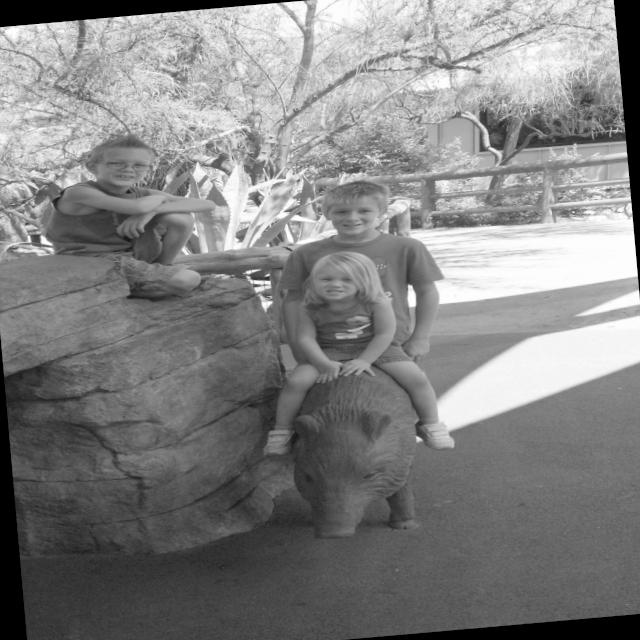pig: (287, 370, 419, 540)
